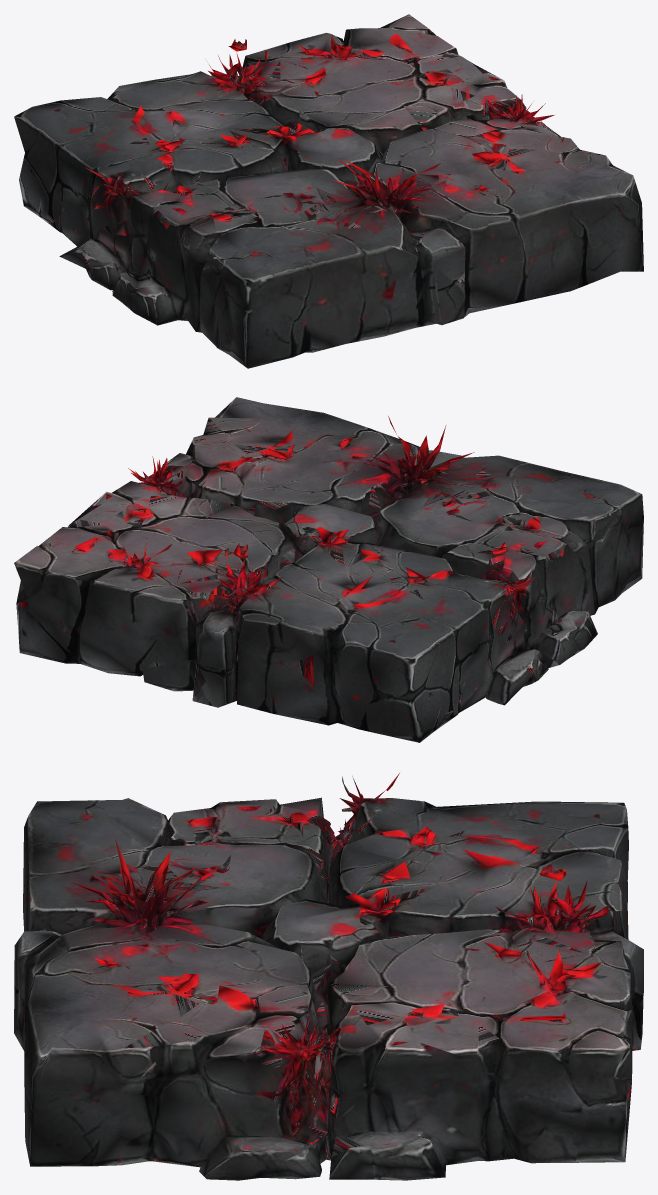
File: lava-tiles.glb
3 renders of one model, top to bottom at view 1: azimuth 30°, elevation 25°; view 2: azimuth 150°, elevation 25°; view 3: azimuth 270°, elevation 25°, orthographic. The views are drawn at different scales.
Size of the model in its own units: 1.9 by 0.5652 by 1.79.
Materials: 1 (1 with a texture image).
